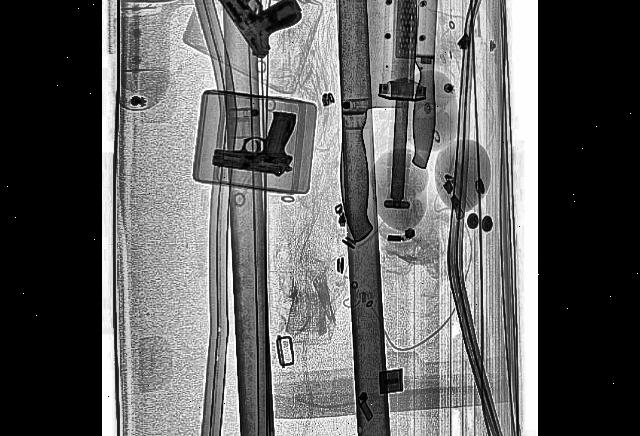Gun: (210, 94, 296, 183), (214, 0, 304, 76)
Knife: (337, 0, 412, 243), (382, 0, 420, 208), (409, 0, 443, 172)
